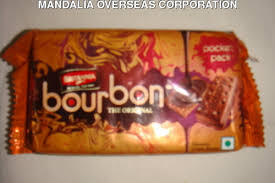VEG: (221, 137, 235, 150)
